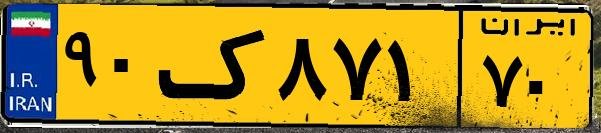0: (525, 38, 570, 115), (110, 28, 158, 98)
1: (385, 28, 445, 110)
7: (330, 28, 385, 110), (475, 38, 525, 113)
8: (270, 28, 330, 110)
9: (57, 26, 110, 100)
ک: (158, 12, 270, 120)
